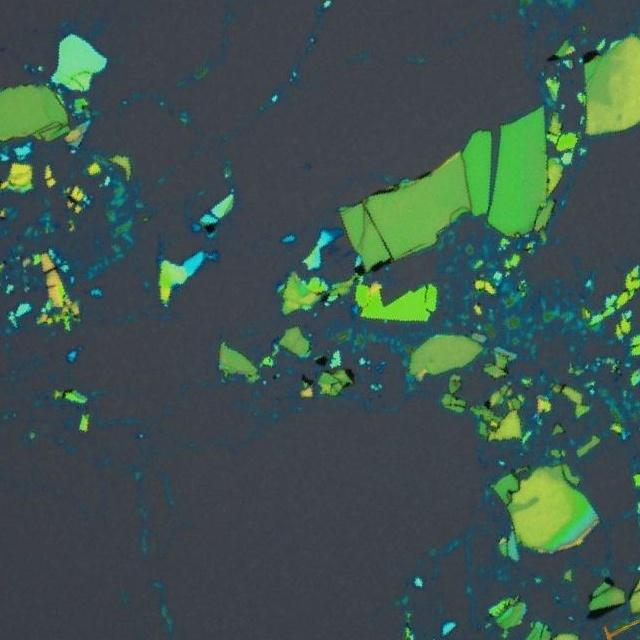monolayer-eWW4: (329, 244, 340, 256)
